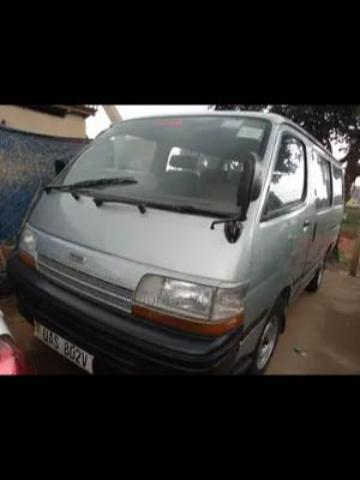van: (7, 109, 344, 371)
